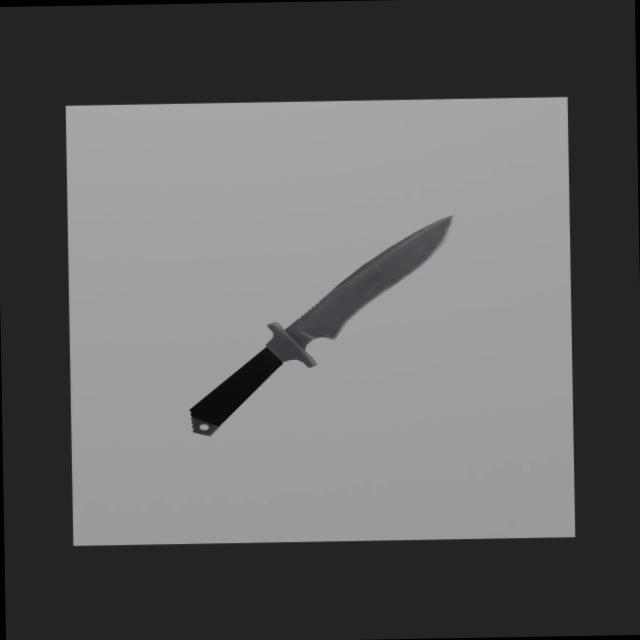knife: (188, 345, 284, 435)
